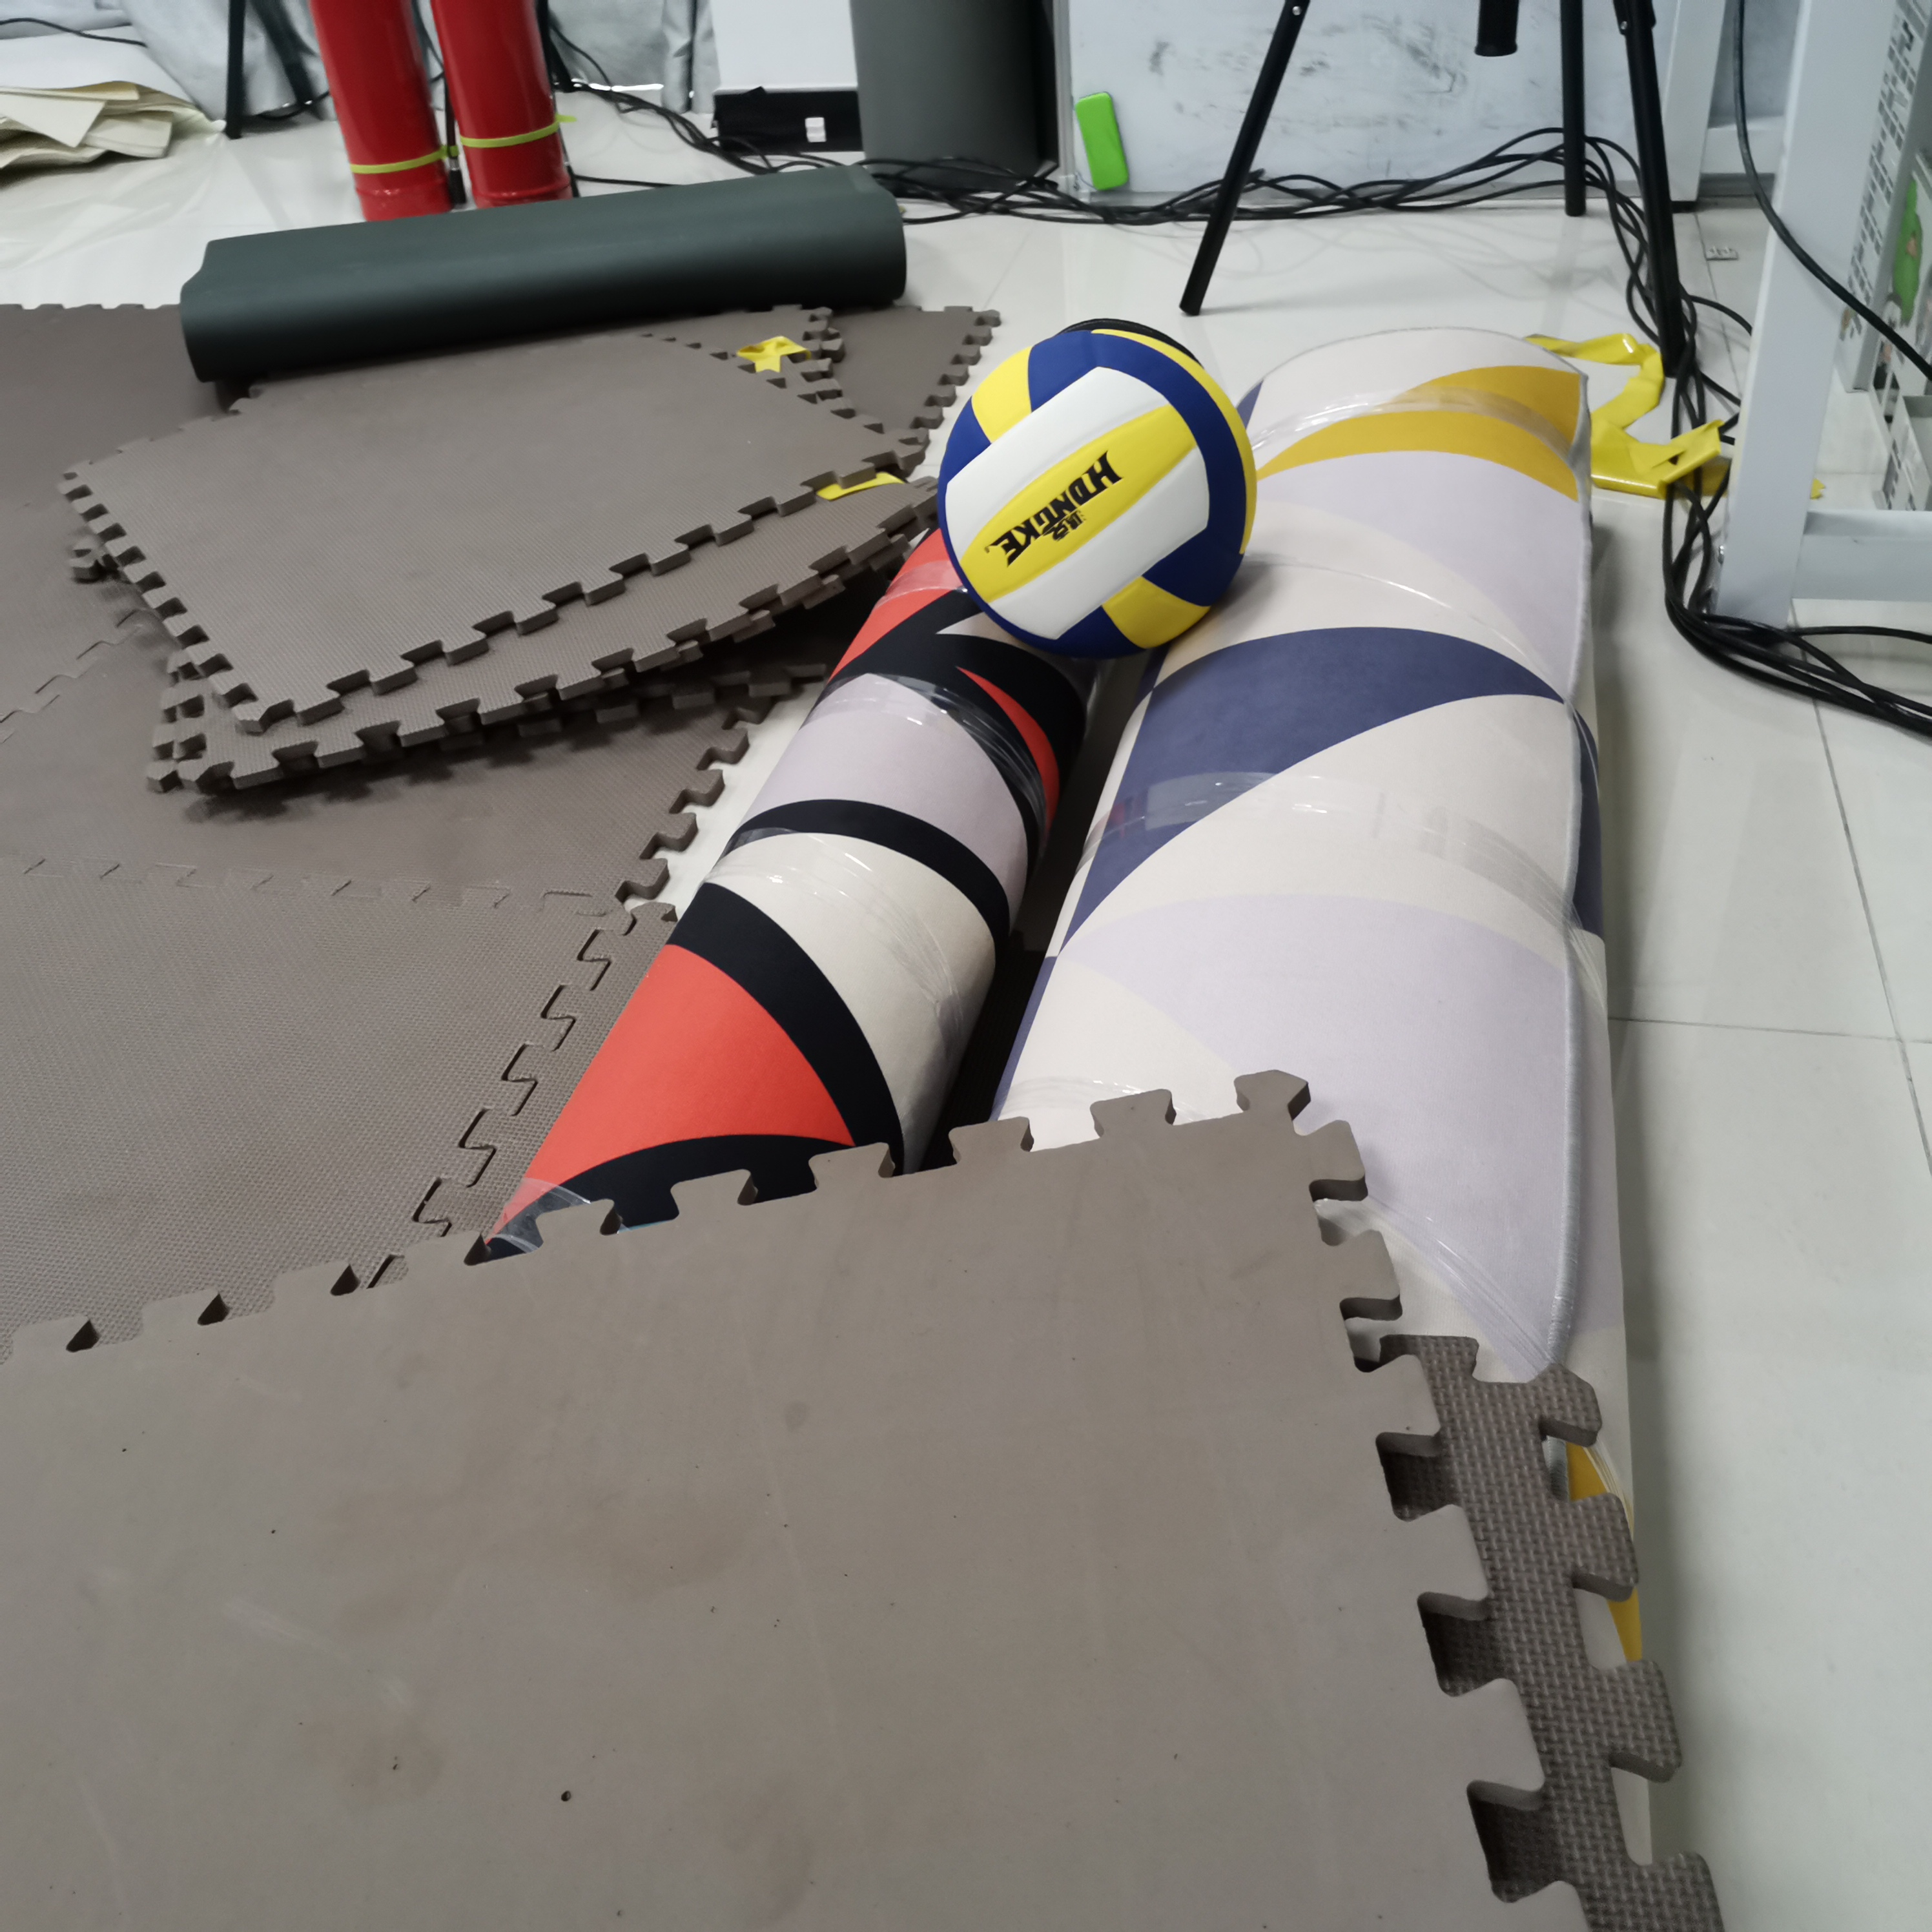volleyball: (938, 318, 1260, 646)
